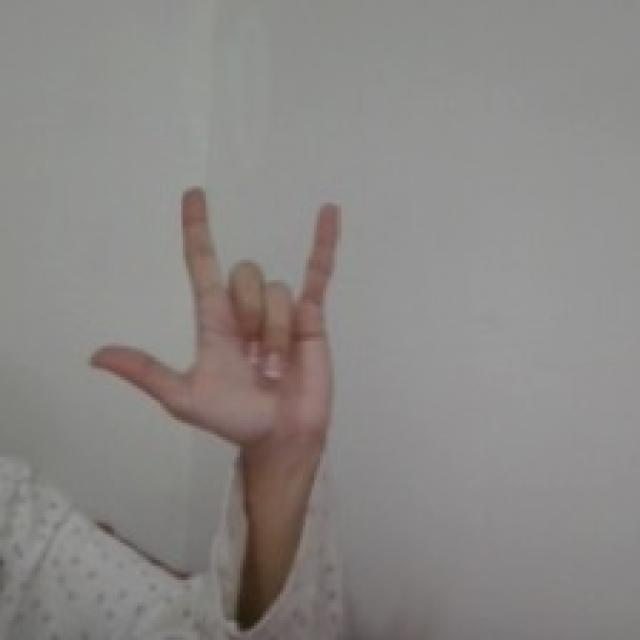love: (84, 181, 348, 449)
